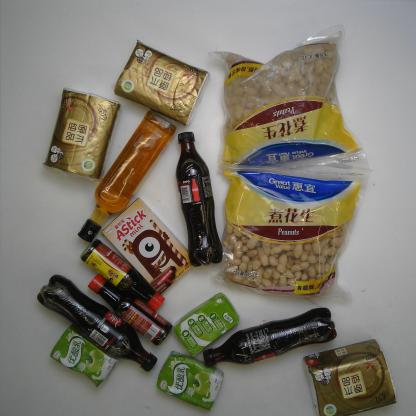Dessert: (103, 198, 191, 293)
Dried Food: (212, 25, 370, 178), (216, 158, 370, 308)
Drink: (34, 272, 158, 371), (203, 304, 339, 367), (175, 129, 222, 266)
Milk: (172, 293, 241, 356), (46, 327, 116, 386), (157, 355, 228, 411)
Seasoner: (77, 108, 176, 244), (83, 274, 171, 343), (80, 240, 163, 310)
Tissue: (113, 43, 210, 127), (302, 338, 399, 414), (41, 87, 118, 182)
